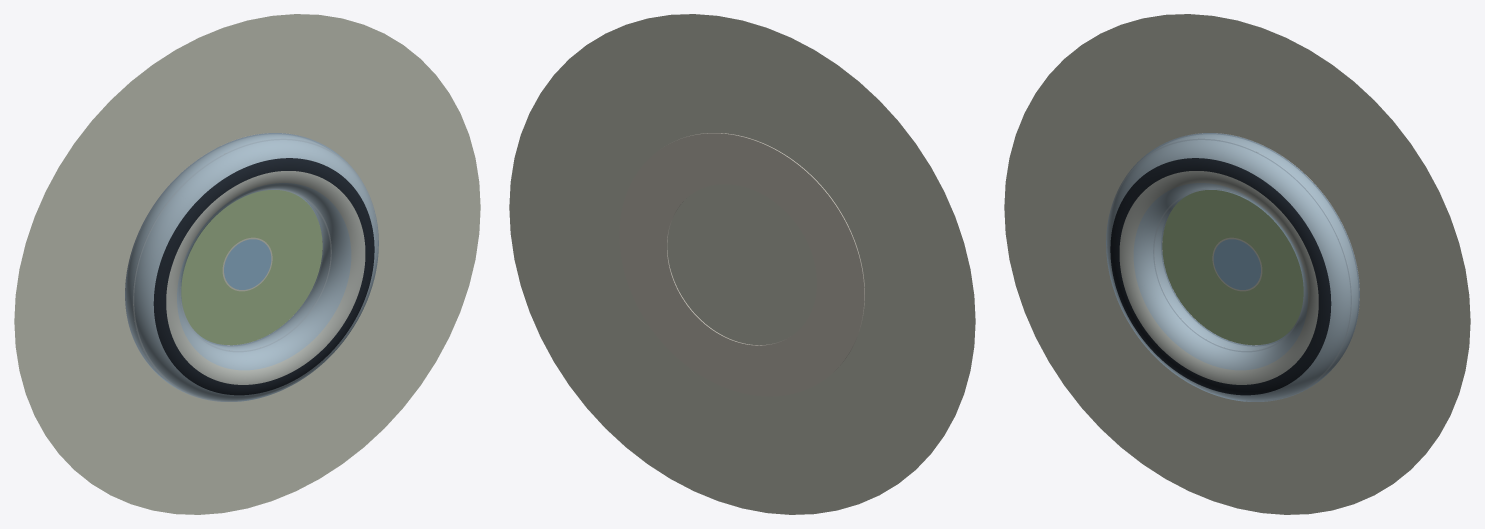
The model's file is torus-office.obj.
3 renders of one model, left to right at view 1: azimuth 30°, elevation 25°; view 2: azimuth 150°, elevation 25°; view 3: azimuth 330°, elevation 25°, orthographic.
Parts seen in each view (by area): view 1: site, shell_lining, courtyard, shell_glazing_L01_outer, shell_crown, shell_crown_pv, shell_glazing_L01_inner, shell_glazing_L00_outer, shell_glazing_L00_inner, pool, slab_L01, shell_springing; view 2: site, slab_L00; view 3: site, shell_lining, courtyard, shell_glazing_L01_outer, shell_crown, shell_crown_pv, shell_glazing_L01_inner, shell_glazing_L00_outer, shell_glazing_L00_inner, pool, slab_L01, shell_springing.
Boxes of the visible parts, x1,y1,x2,y2 form: site: (14, 14, 480, 514); shell_lining: (126, 134, 377, 400); courtyard: (181, 190, 322, 345); shell_glazing_L01_outer: (133, 138, 378, 401); shell_crown: (166, 171, 365, 384); shell_crown_pv: (153, 158, 374, 395); shell_glazing_L01_inner: (177, 183, 351, 370); shell_glazing_L00_outer: (125, 133, 355, 400); shell_glazing_L00_inner: (193, 193, 330, 350); pool: (224, 239, 271, 289); slab_L01: (133, 138, 377, 401); shell_springing: (125, 133, 329, 376); site: (509, 14, 975, 514); slab_L00: (619, 133, 864, 396); site: (1004, 14, 1470, 514); shell_lining: (1107, 134, 1358, 400); courtyard: (1162, 190, 1303, 345); shell_glazing_L01_outer: (1106, 138, 1351, 401); shell_crown: (1119, 171, 1318, 384); shell_crown_pv: (1110, 158, 1331, 395); shell_glazing_L01_inner: (1133, 183, 1307, 370); shell_glazing_L00_outer: (1129, 133, 1359, 400); shell_glazing_L00_inner: (1154, 193, 1291, 350); pool: (1213, 239, 1260, 289); slab_L01: (1107, 138, 1351, 401); shell_springing: (1155, 133, 1359, 376).
Bounding box in the file's own units: 142 × 142 × 9.95.
